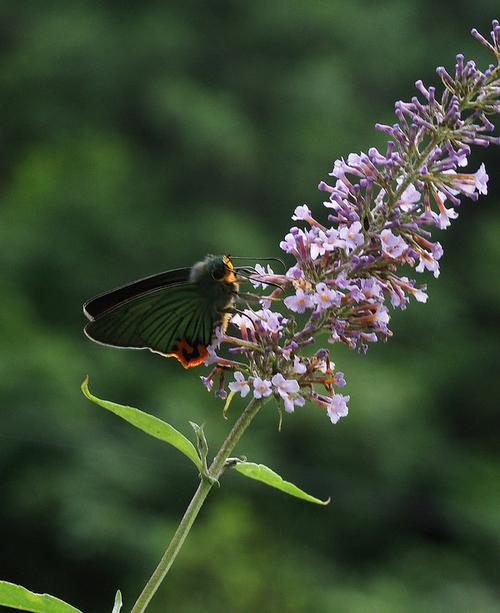Hesperiidae: (78, 244, 285, 360)
